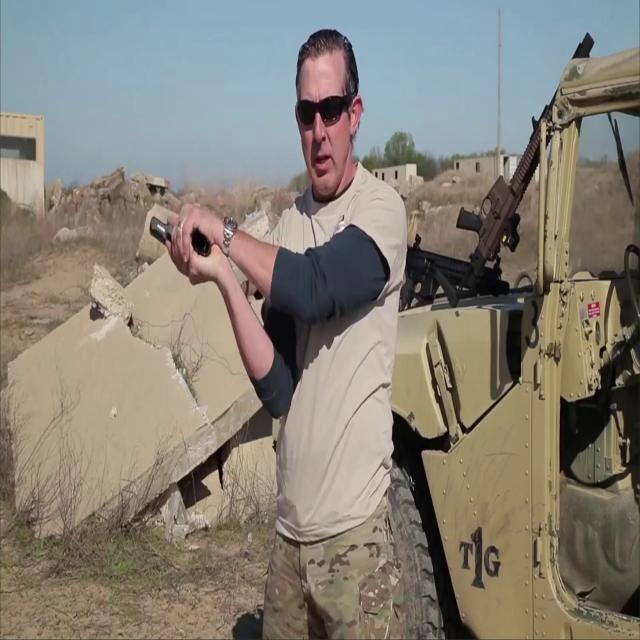gun: (150, 214, 212, 260)
